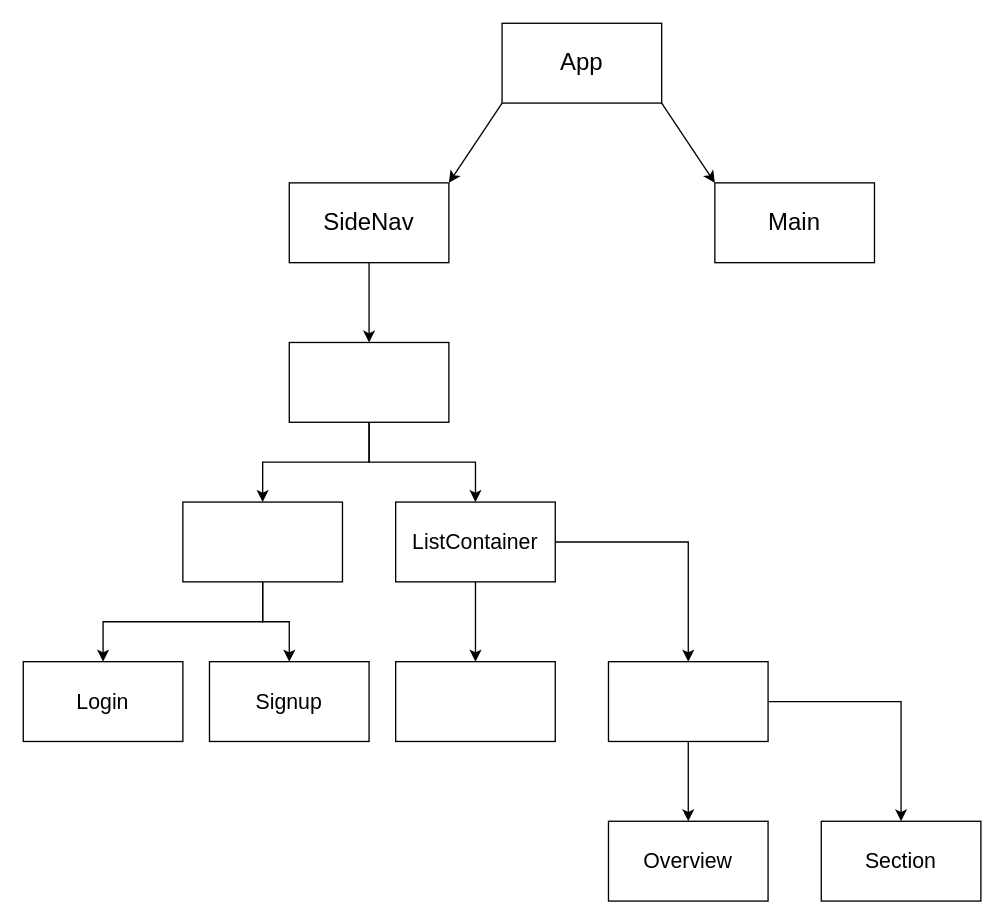
Some shapes in this 1004 by 924 pixel diagram are drawn without their labels. The centre of each missing label's shape, as x and y in pixels:
":is=component" belongs at [368,381].
"AuthContainer" belongs at [262,541].
"Collectiondetails" belongs at [687,700].
"ListCollection" belongs at [474,700].
